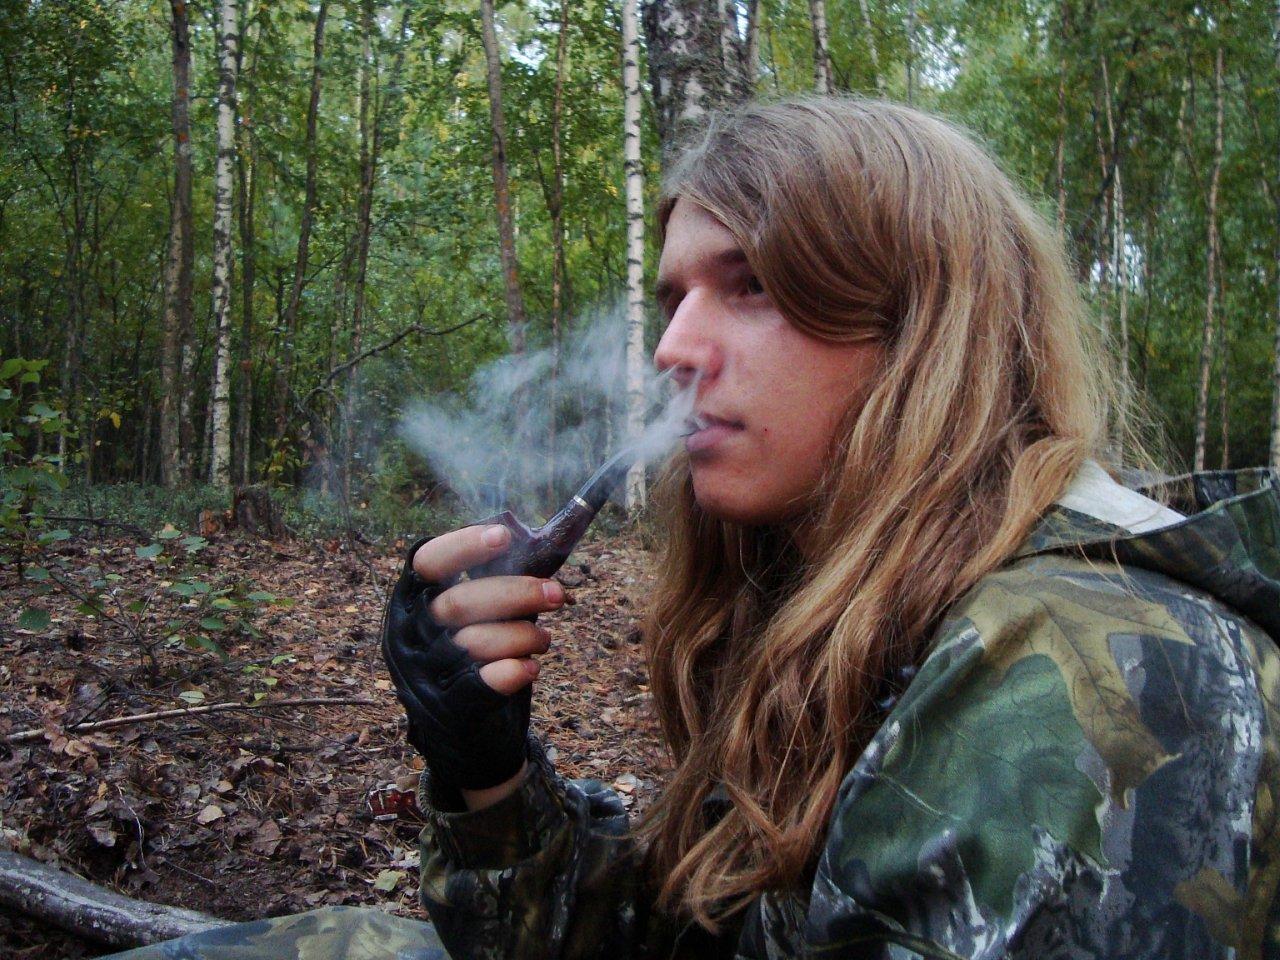trubka: (464, 427, 691, 579)
